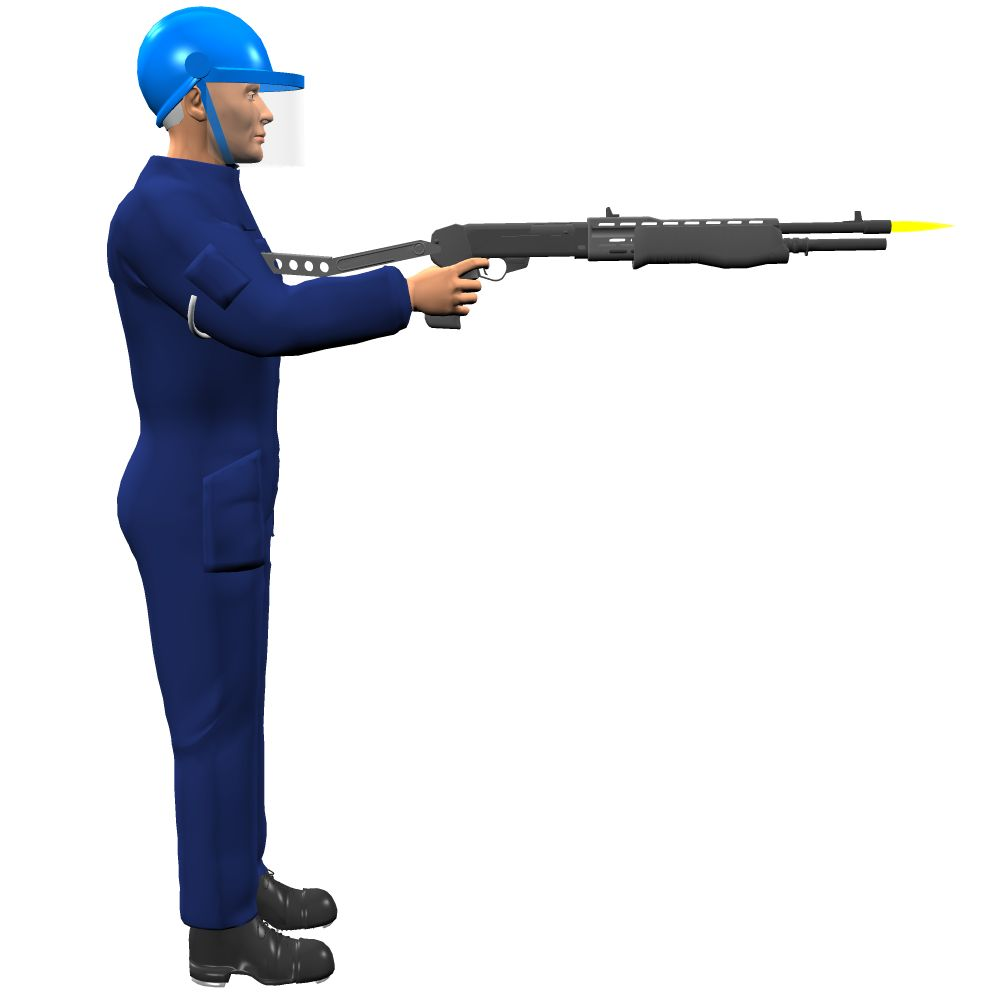Gun: (422, 201, 859, 286)
